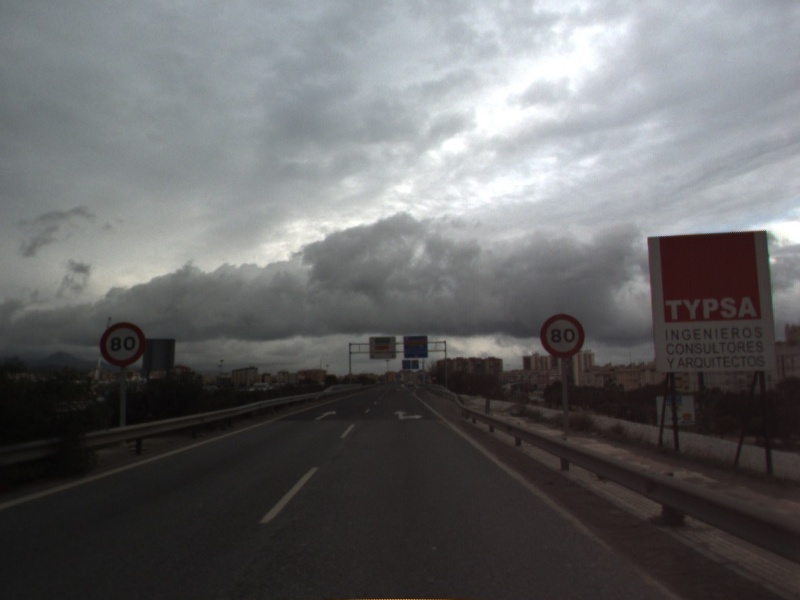STRAIGHT: (312, 408, 339, 423)
STRAIGHT_RIGHT: (392, 408, 426, 422)
